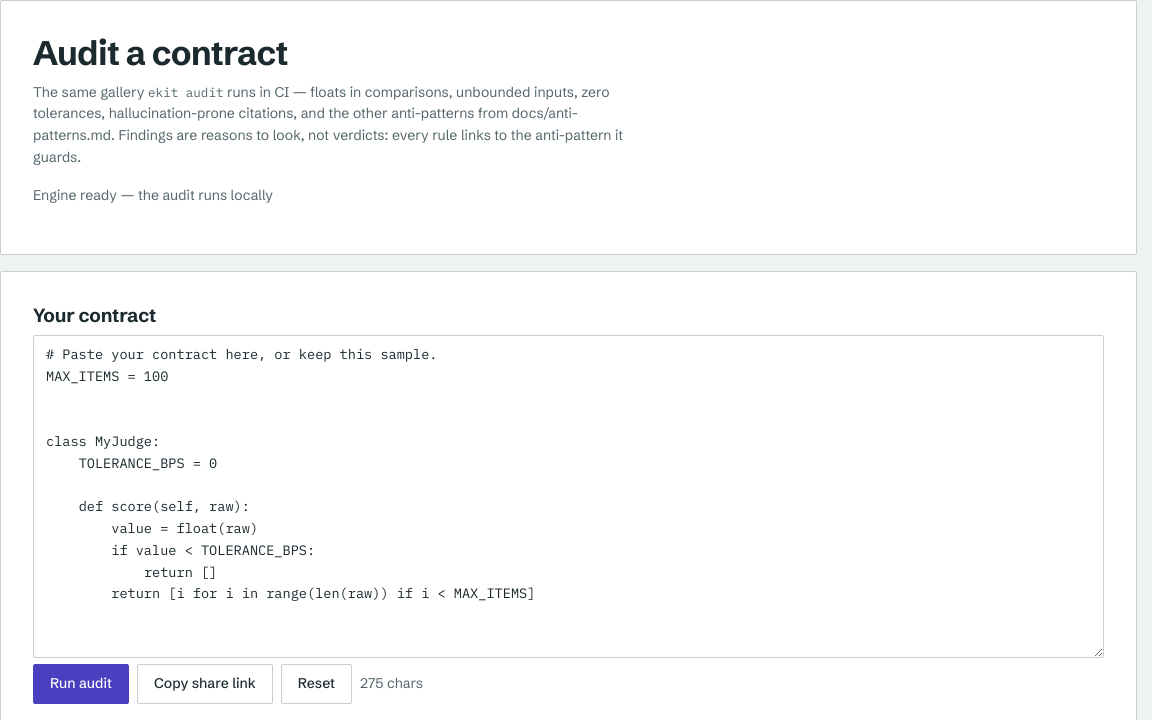
Audit screen › surfaces engine errors through the notice, using the real EngineError
The image size is (1152, 720).
Click the button "Run audit" at (81, 684), box x1=33 y1=664 x2=129 y2=704
(page scrolled)
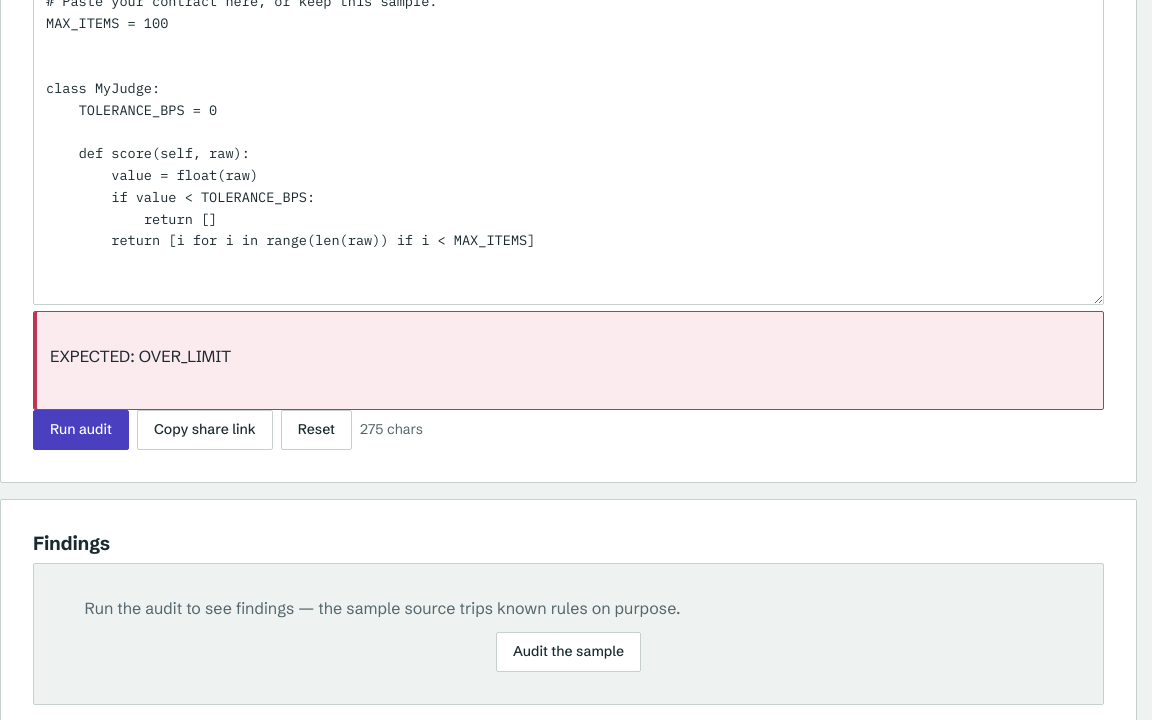
Check: the message reads "EXPECTED: OVER_LIMIT", box x1=50 y1=346 x2=231 y2=366
